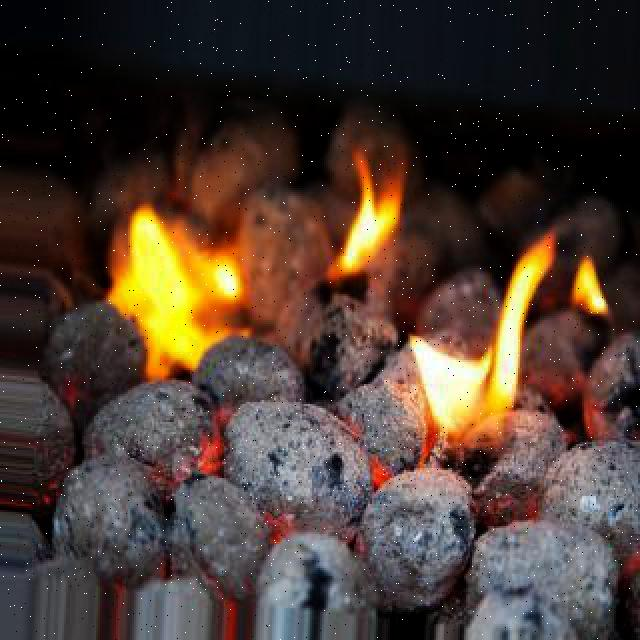fire: (404, 220, 568, 452), (106, 212, 252, 370), (328, 140, 428, 290)
